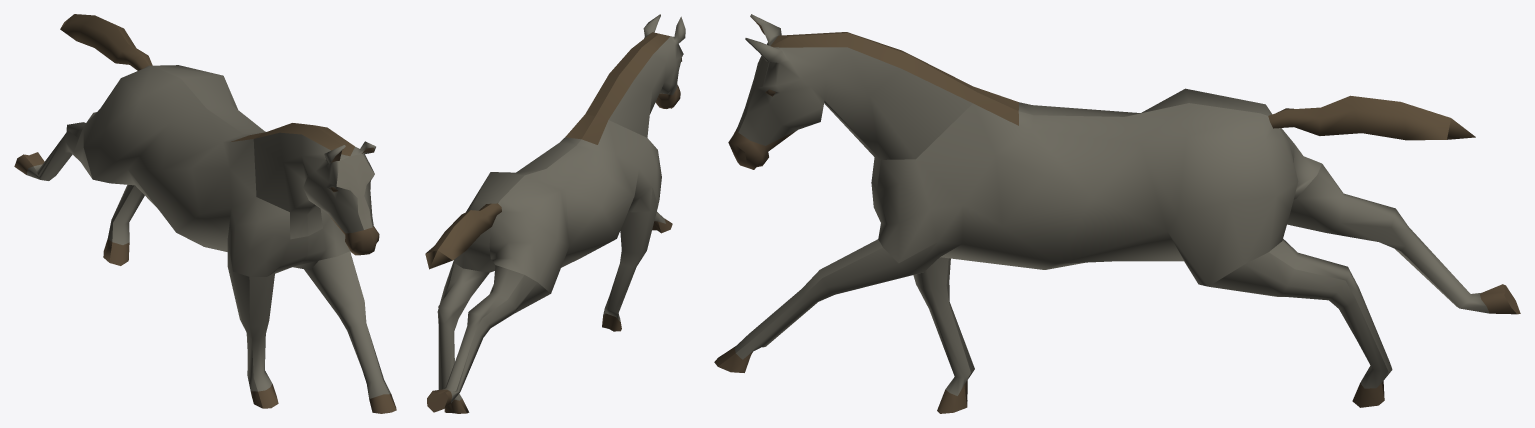
The model's file is Horse2.fbx.
3 views of the same model, side by side, from view 1: azimuth 30°, elevation 25°; view 2: azimuth 150°, elevation 25°; view 3: azimuth 270°, elevation 25° (orthographic). The views are drawn at different scales.
Parts seen in each view (by area): view 1: Horse2; view 2: Horse2; view 3: Horse2.
Part boxes in pixels (x1,y1,x2,y2): Horse2: (14,14,396,413); Horse2: (425,14,685,413); Horse2: (714,14,1520,413).
Bounding box in the file's own units: 387 × 910 × 1679.
